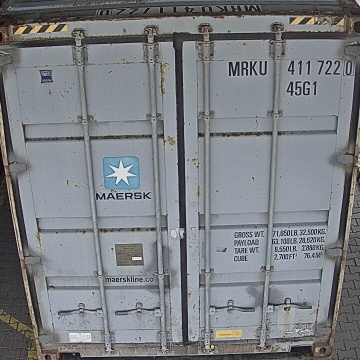serial_id: (229, 59, 354, 75)
